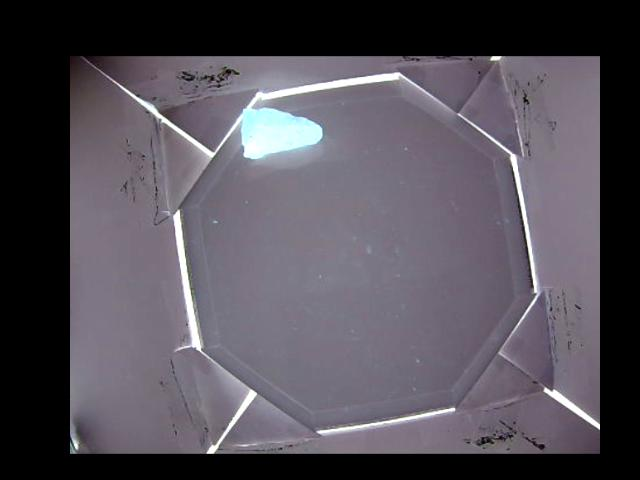Brisk: (240, 106, 322, 158)
